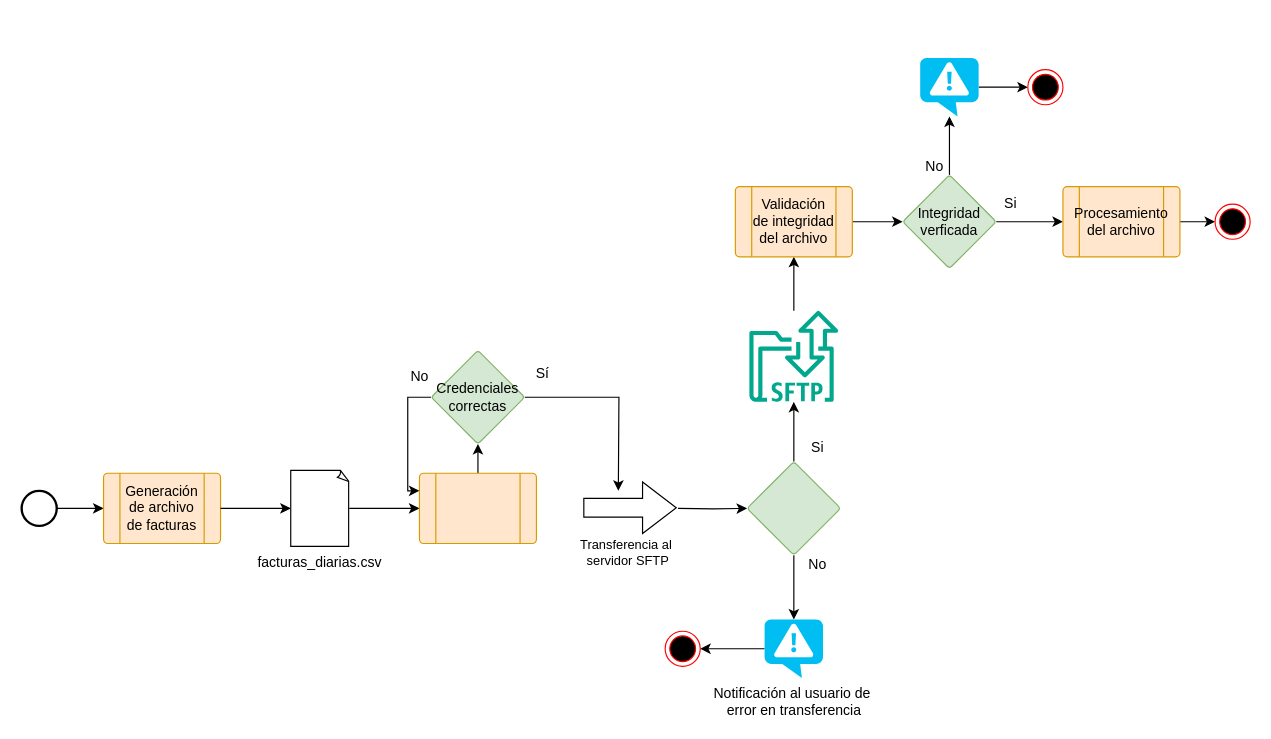
Some shapes in this 1271 by 739 pixel diagram are drawn without their labels. The shapes that lost their labels are listed below. From the top down, each one's centre as x and y in pixels, then its label:
At point 949,86: "Notificación al usuario de errores en el archivo".
At point 477,507: "Validación de credenciales SFTP".
At point 793,507: "Transferencia exitosa".
